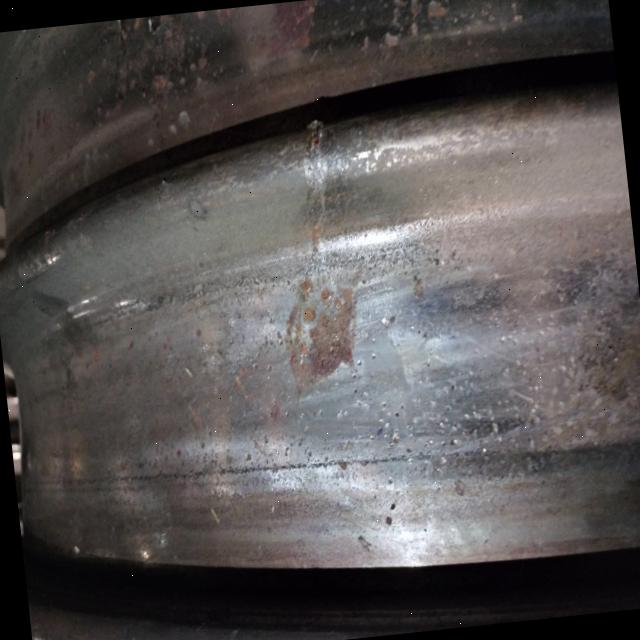Contact_Fatigue_Cracks: (155, 273, 297, 302)
Out_Of_Roundness: (288, 111, 344, 251)
Peeling: (95, 15, 185, 112)
